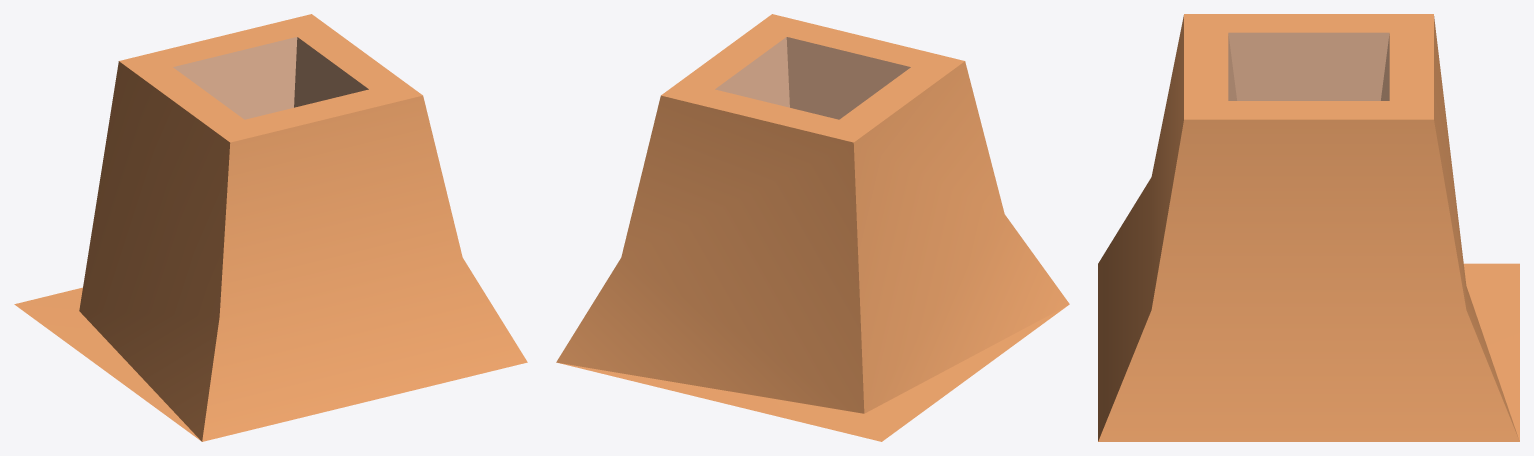
File: treeStump_deep.fbx
The picture shows the model from 3 angles, left to right: view 1: azimuth 30°, elevation 25°; view 2: azimuth 150°, elevation 25°; view 3: azimuth 270°, elevation 25°; orthographic projection. The views are drawn at different scales.
Parts seen in each view (by area): view 1: treeStump_deep; view 2: treeStump_deep; view 3: treeStump_deep.
Boxes of the visible parts, x1,y1,x2,y2 form: treeStump_deep: (14,14,527,441); treeStump_deep: (556,14,1069,441); treeStump_deep: (1098,14,1519,441).
Bounding box in the file's own units: 2.81 × 2.11 × 2.81.
